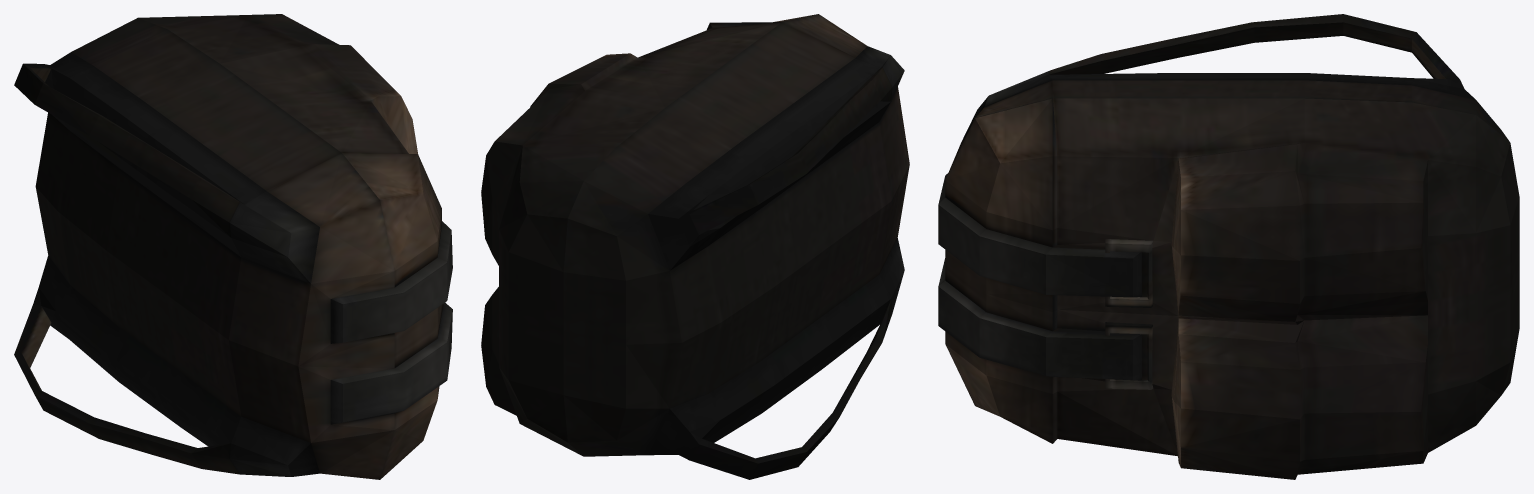
File: backpack.obj
3 views of the same model, side by side, from view 1: azimuth 30°, elevation 25°; view 2: azimuth 150°, elevation 25°; view 3: azimuth 270°, elevation 25° (orthographic). The views are drawn at different scales.
Size of the model in its own units: 15.47 by 15.03 by 23.52.
1 material, 1 textured.
